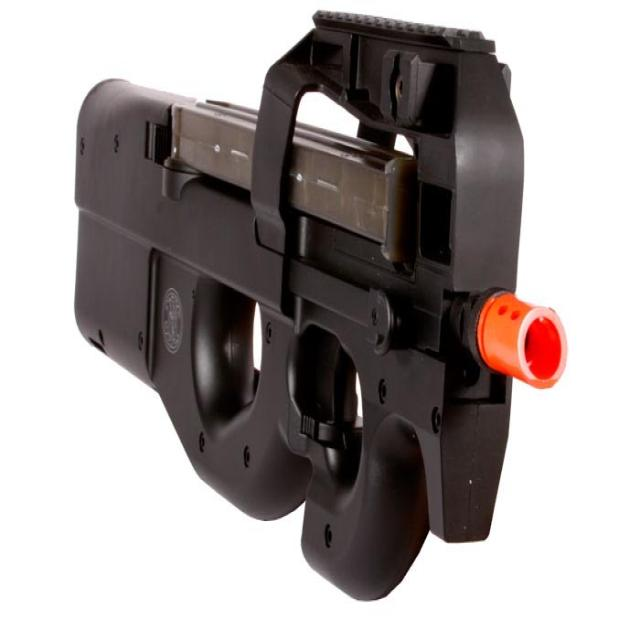SMG: (72, 12, 571, 604)
